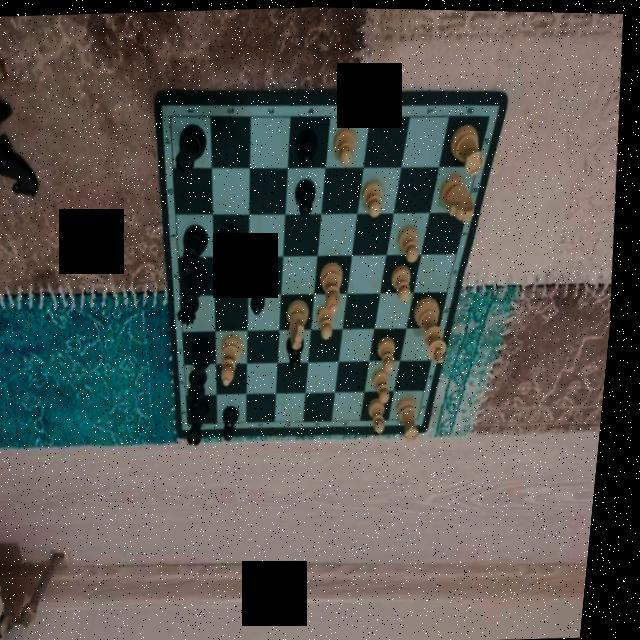chess-table-corners: (418, 410, 434, 424), (166, 108, 180, 123), (486, 108, 498, 120), (190, 418, 202, 428)
